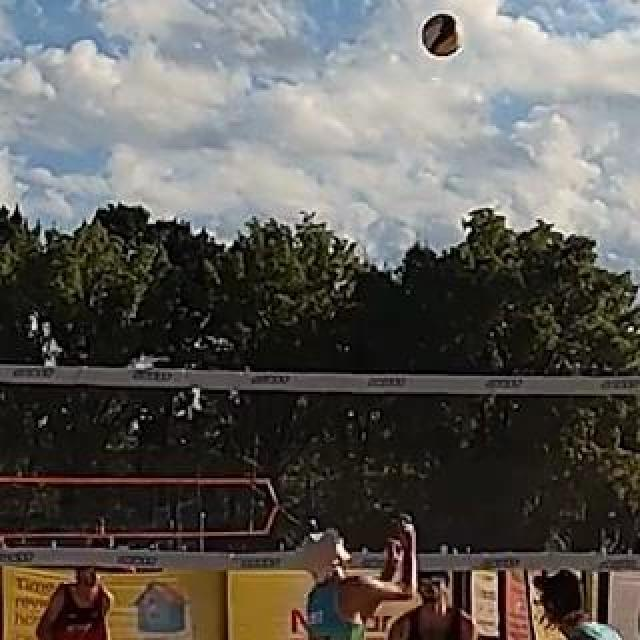volleyball: (420, 13, 462, 57)
